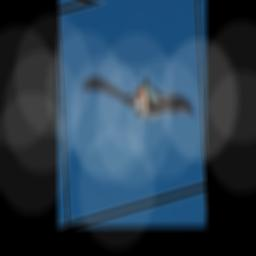Swallow: (81, 50, 195, 154)
